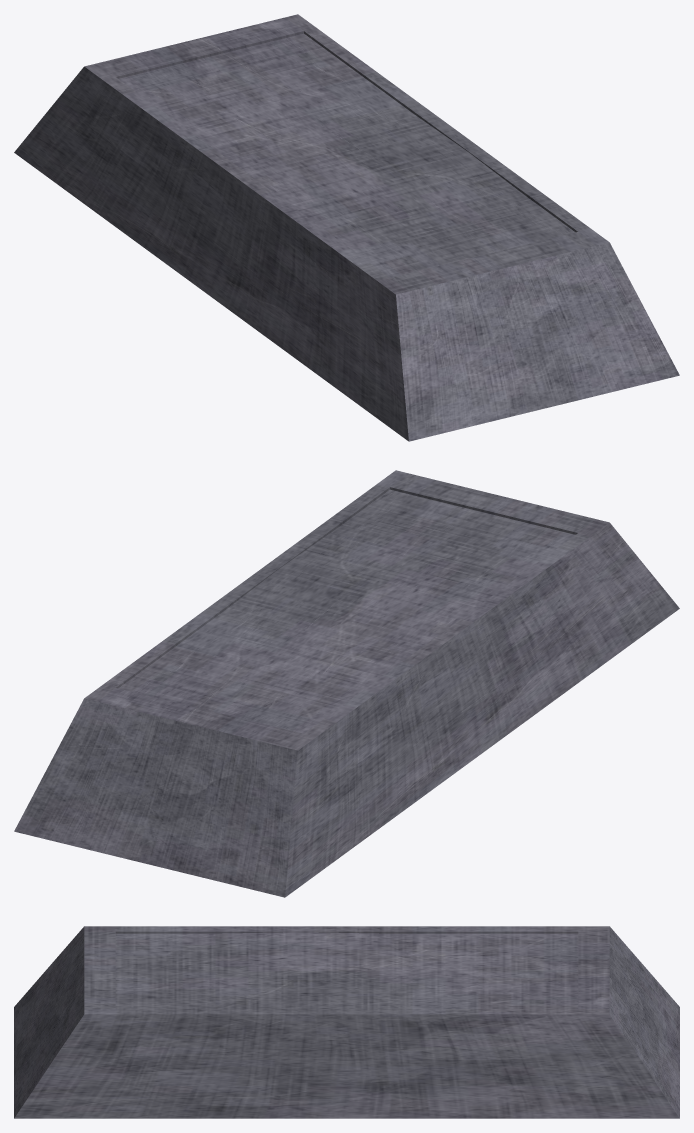
File: metal bar.fbx
The picture shows the model from 3 angles, top to bottom: view 1: azimuth 30°, elevation 25°; view 2: azimuth 150°, elevation 25°; view 3: azimuth 270°, elevation 25°; orthographic projection. The views are drawn at different scales.
Parts seen in each view (by area): view 1: Big bar; view 2: Big bar; view 3: Big bar.
Part boxes in pixels (x1=…): Big bar: x1=14, y1=14, x2=679, y2=441; Big bar: x1=14, y1=470, x2=679, y2=897; Big bar: x1=14, y1=926, x2=679, y2=1118.
Size of the model in its own units: 8.26 by 3.19 by 20.84.
Materials: 1 (1 with a texture image).
